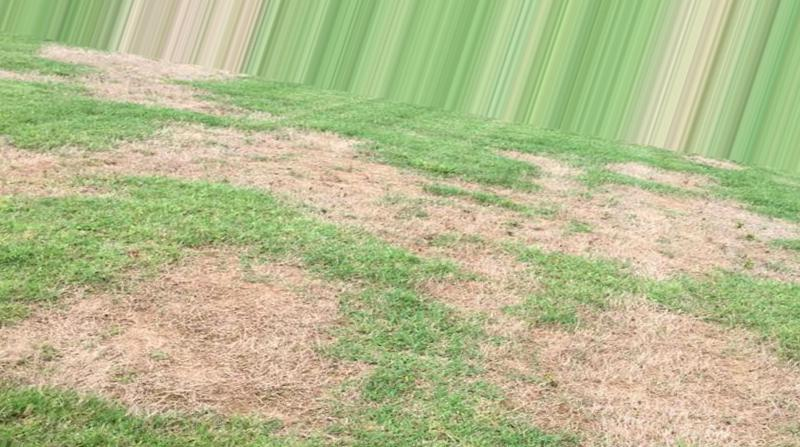patch: (65, 259, 306, 419), (565, 314, 776, 438), (301, 148, 488, 266), (567, 179, 750, 266), (88, 47, 240, 115), (129, 116, 243, 191), (22, 141, 121, 189)
